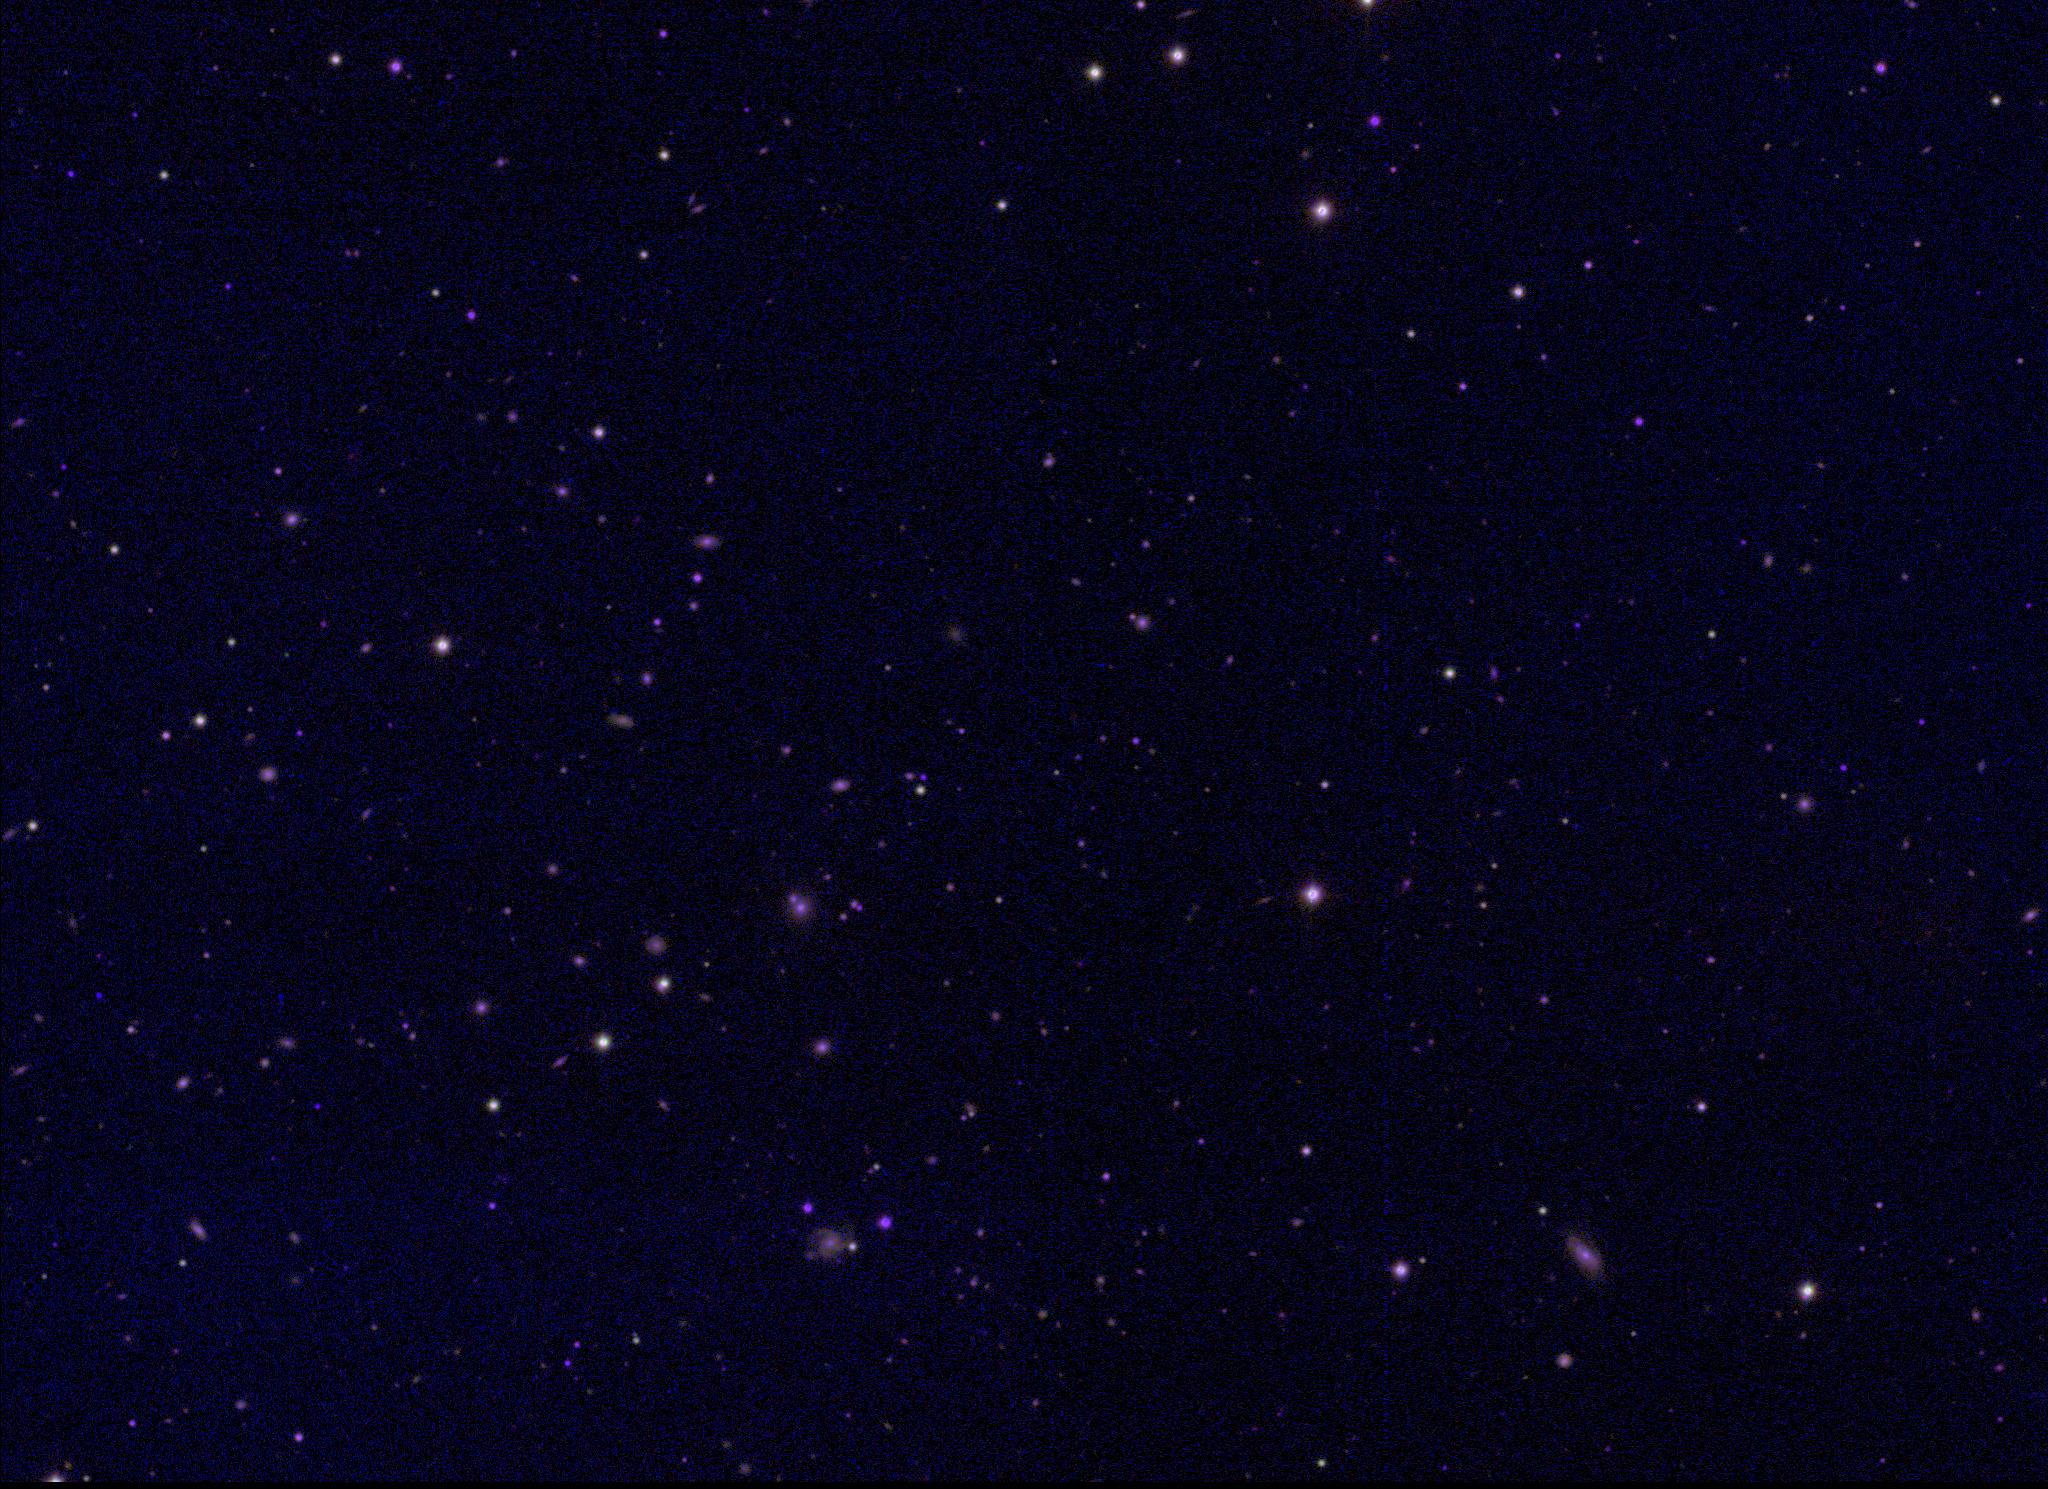L: (91, 986, 105, 1001)
